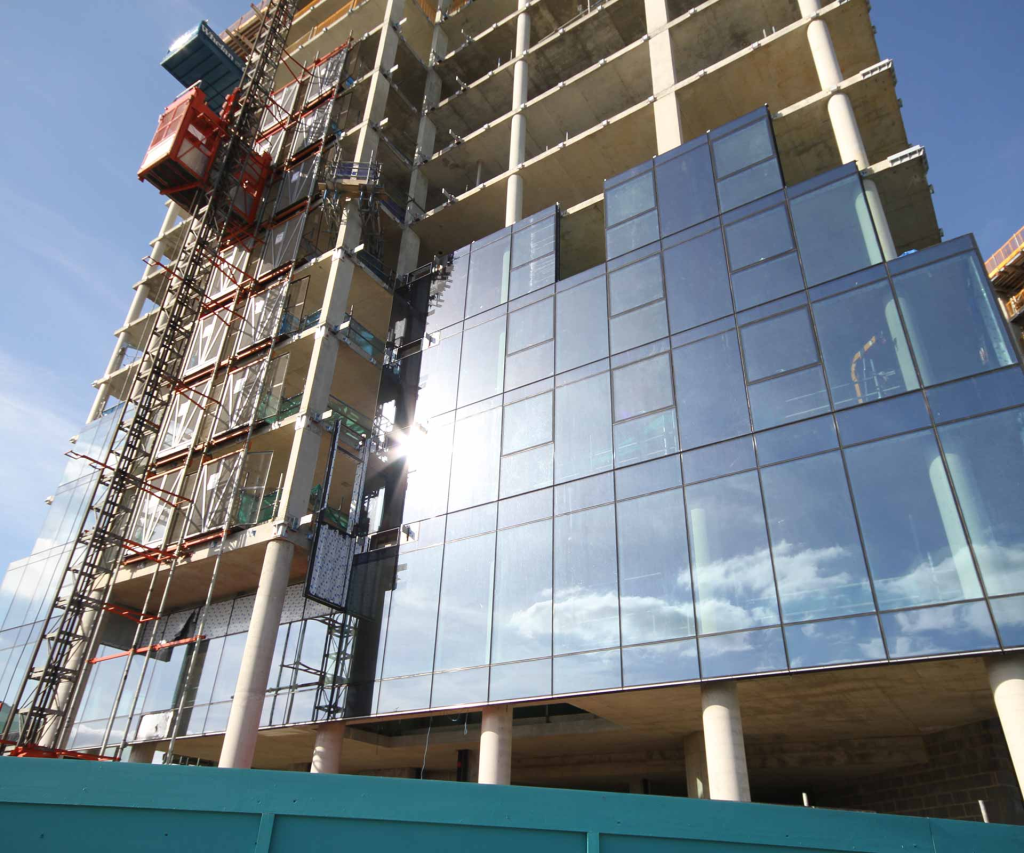glass panel: (846, 432, 980, 608), (761, 453, 873, 621), (894, 253, 1015, 384), (939, 409, 1023, 594), (686, 472, 778, 633), (813, 281, 917, 407), (617, 489, 694, 643), (790, 174, 881, 285), (554, 505, 618, 653), (673, 332, 749, 448), (492, 520, 552, 660), (433, 533, 494, 669), (382, 547, 442, 677), (664, 228, 732, 332), (882, 601, 997, 657), (556, 373, 611, 481), (399, 415, 453, 520), (448, 407, 502, 511), (740, 309, 817, 381), (655, 145, 717, 233), (785, 616, 884, 668), (748, 366, 828, 429), (928, 369, 1023, 422), (556, 276, 608, 371), (836, 393, 929, 445), (725, 206, 793, 270), (699, 628, 786, 678), (458, 316, 505, 406), (612, 353, 674, 421), (415, 334, 461, 422), (732, 252, 802, 309), (756, 417, 837, 464), (614, 409, 678, 465), (465, 237, 510, 316), (622, 640, 698, 686), (717, 158, 782, 211), (426, 252, 469, 332), (712, 120, 771, 177), (682, 437, 755, 482), (609, 254, 663, 314), (610, 300, 667, 353), (502, 392, 552, 452), (499, 444, 554, 498), (553, 649, 620, 693), (615, 456, 681, 500), (605, 171, 654, 227), (490, 658, 552, 701), (606, 209, 658, 259), (507, 299, 552, 352), (555, 473, 614, 513), (511, 216, 556, 267), (430, 667, 488, 706), (505, 342, 552, 390), (510, 254, 556, 299), (498, 489, 551, 527), (378, 675, 431, 712), (445, 503, 496, 540), (990, 596, 1023, 647)
